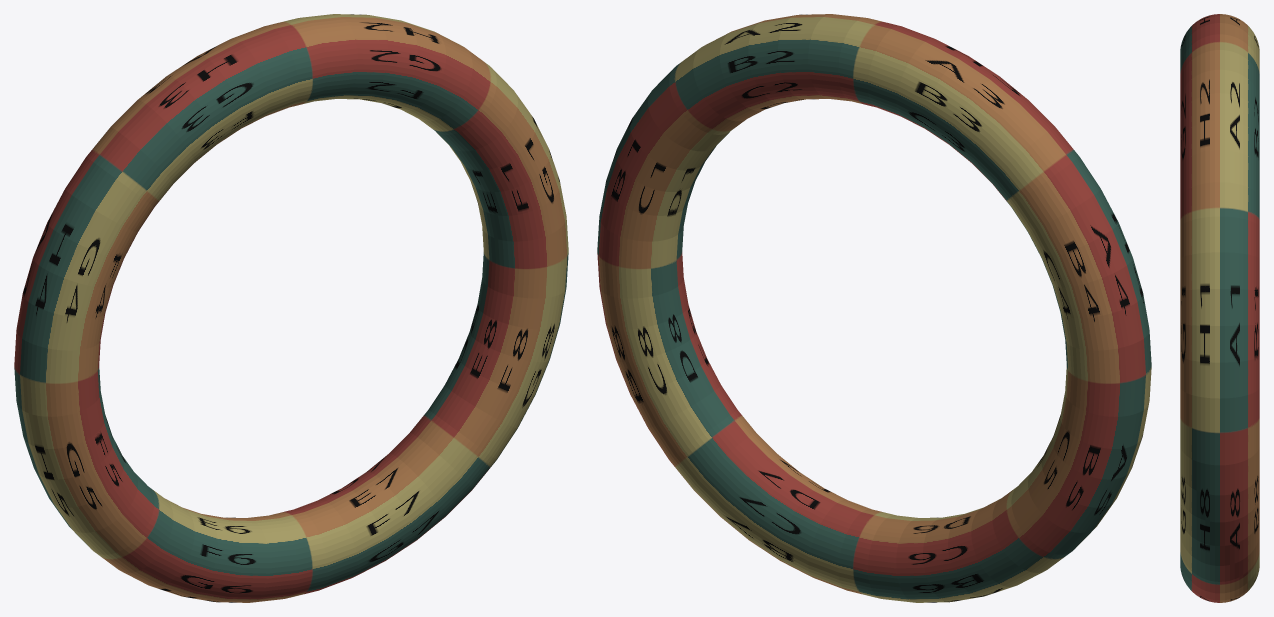
The model's file is texture_torus_R22_r7.glb.
3 renders of one model, left to right at view 1: azimuth 30°, elevation 25°; view 2: azimuth 150°, elevation 25°; view 3: azimuth 270°, elevation 25°, orthographic. The views are drawn at different scales.
Parts seen in each view (by area): view 1: world; view 2: world; view 3: world.
Boxes of the visible parts, x1,y1,x2,y2 form: world: (14, 14, 568, 602); world: (597, 14, 1151, 602); world: (1180, 14, 1259, 602).
Size of the model in its own units: 28.53 by 28.48 by 3.86.
1 material, 1 textured.
